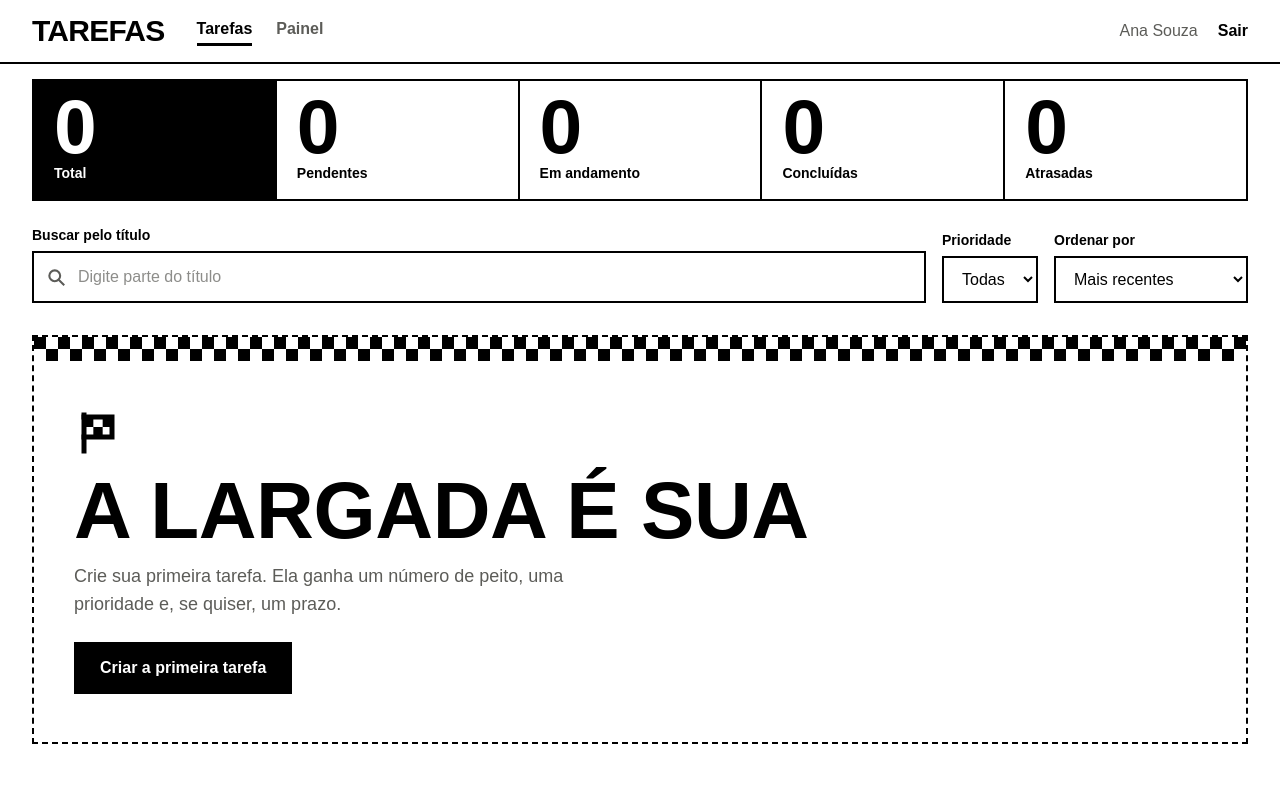
página de tarefas › sem nenhuma tarefa, convida a criar a primeira e envia o formulário
(page scrolled)
Click the button "Criar a primeira tarefa" at point(183, 668), box [74,642,292,694]
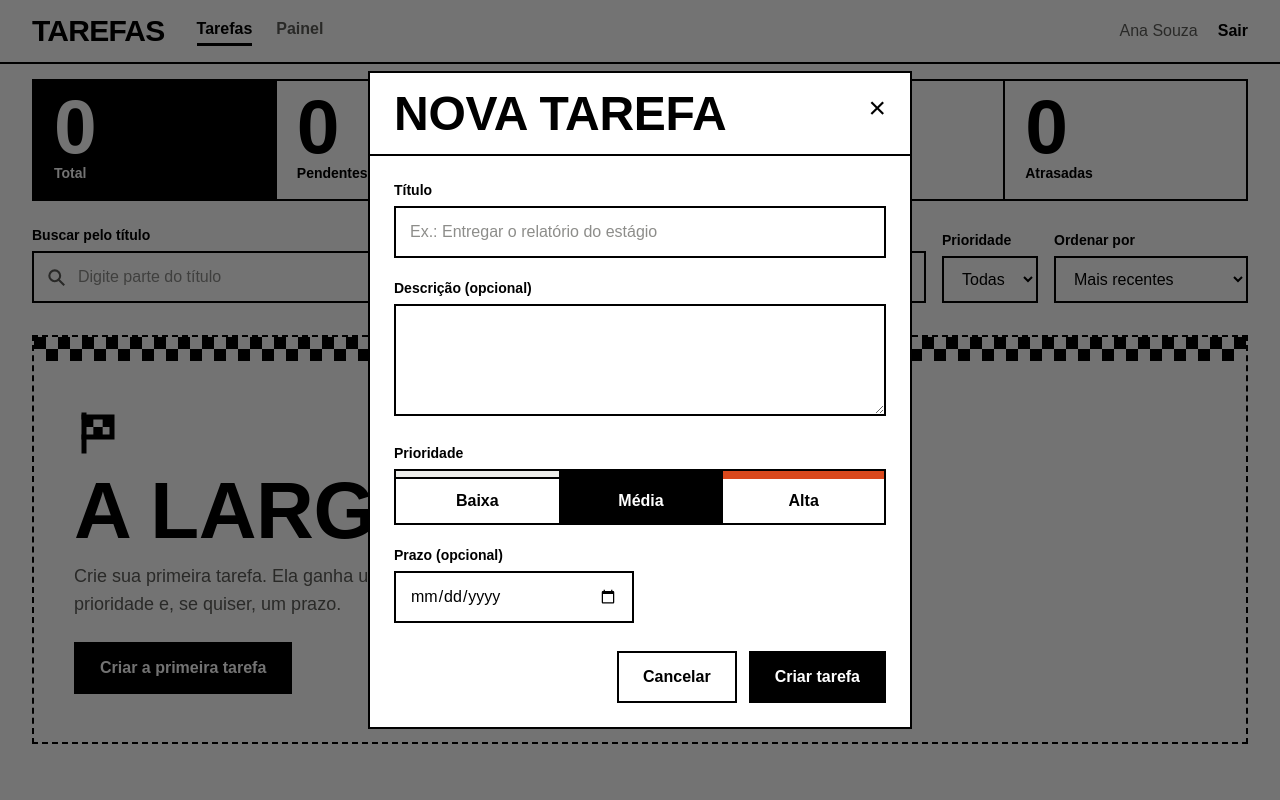
Type "  Estudar Spring Security " into the field labelled "Título" at point(640, 232), box [394,206,886,258]
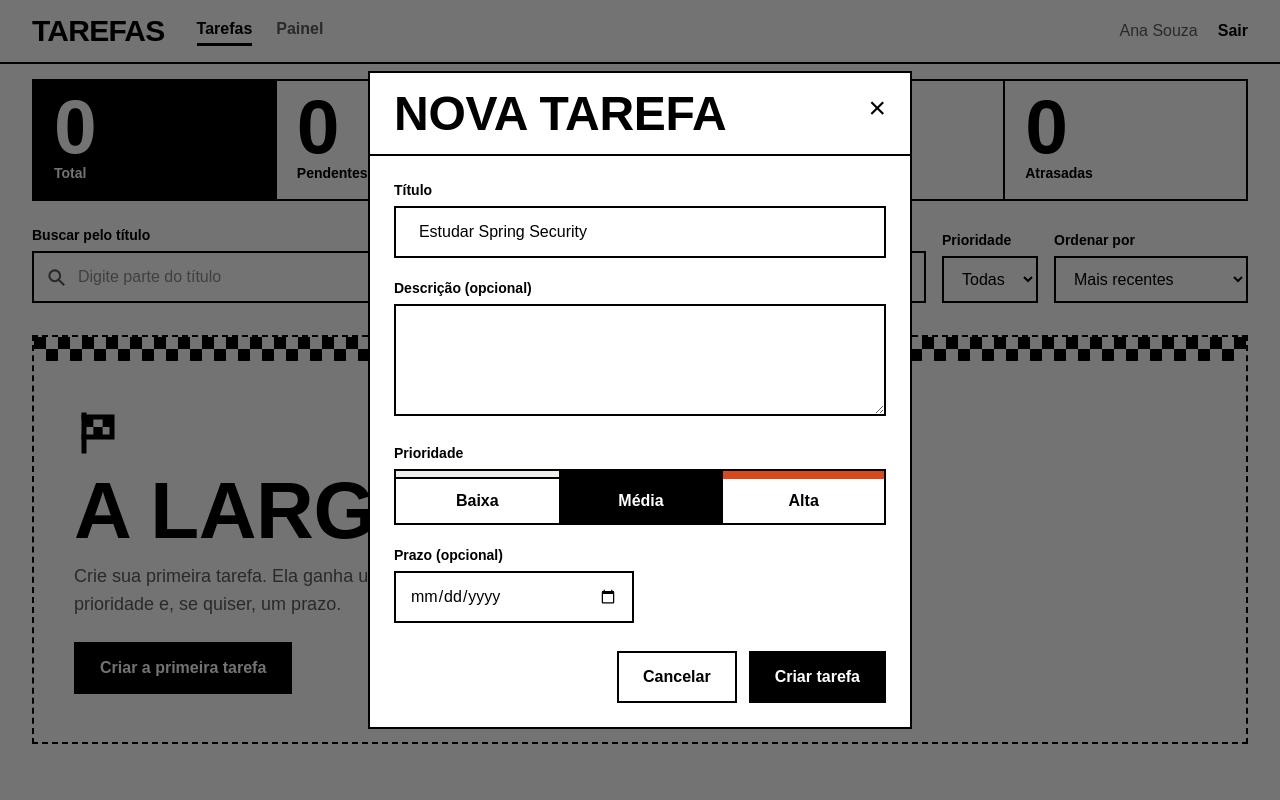
Click the radio button labelled "Alta" at point(803, 497), box [721,471,884,523]
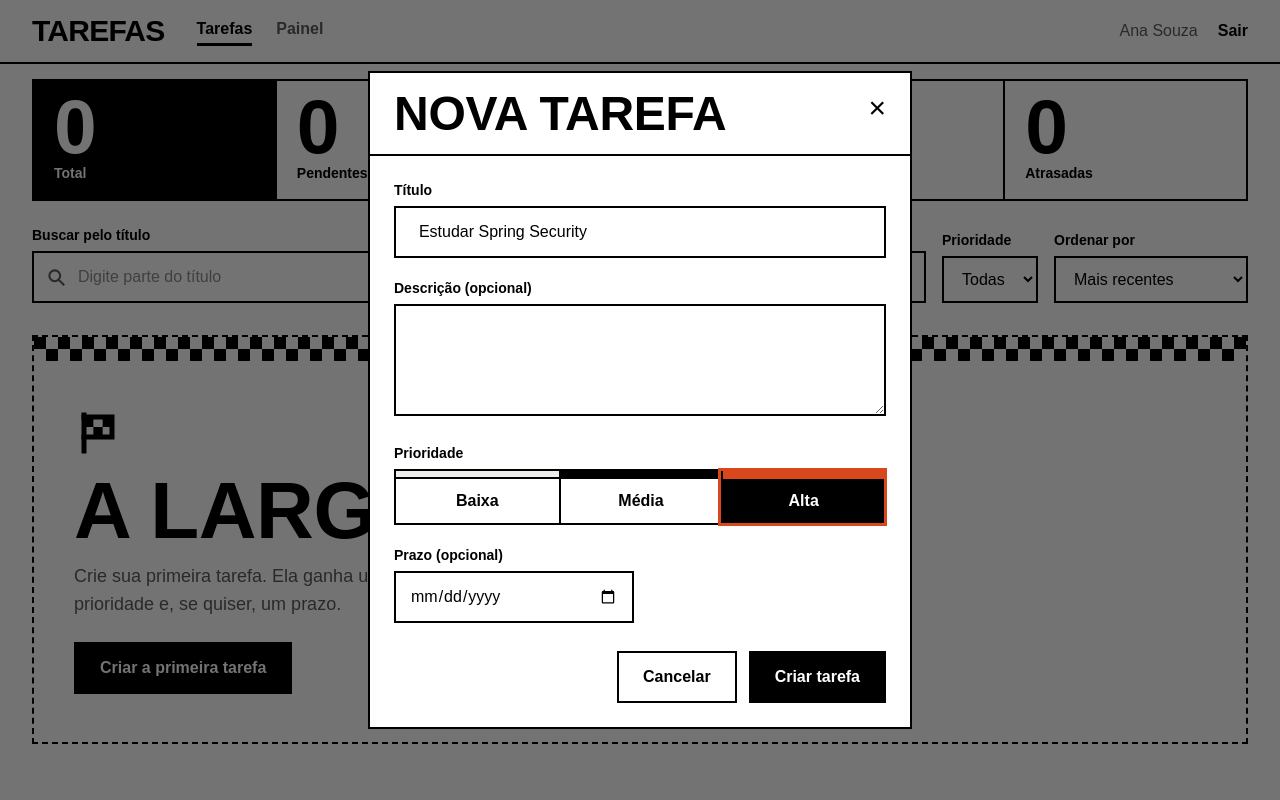
Type "2026-12-10" into the date field labelled "Prazo (opcional)" at point(514, 597), box [394,571,634,623]
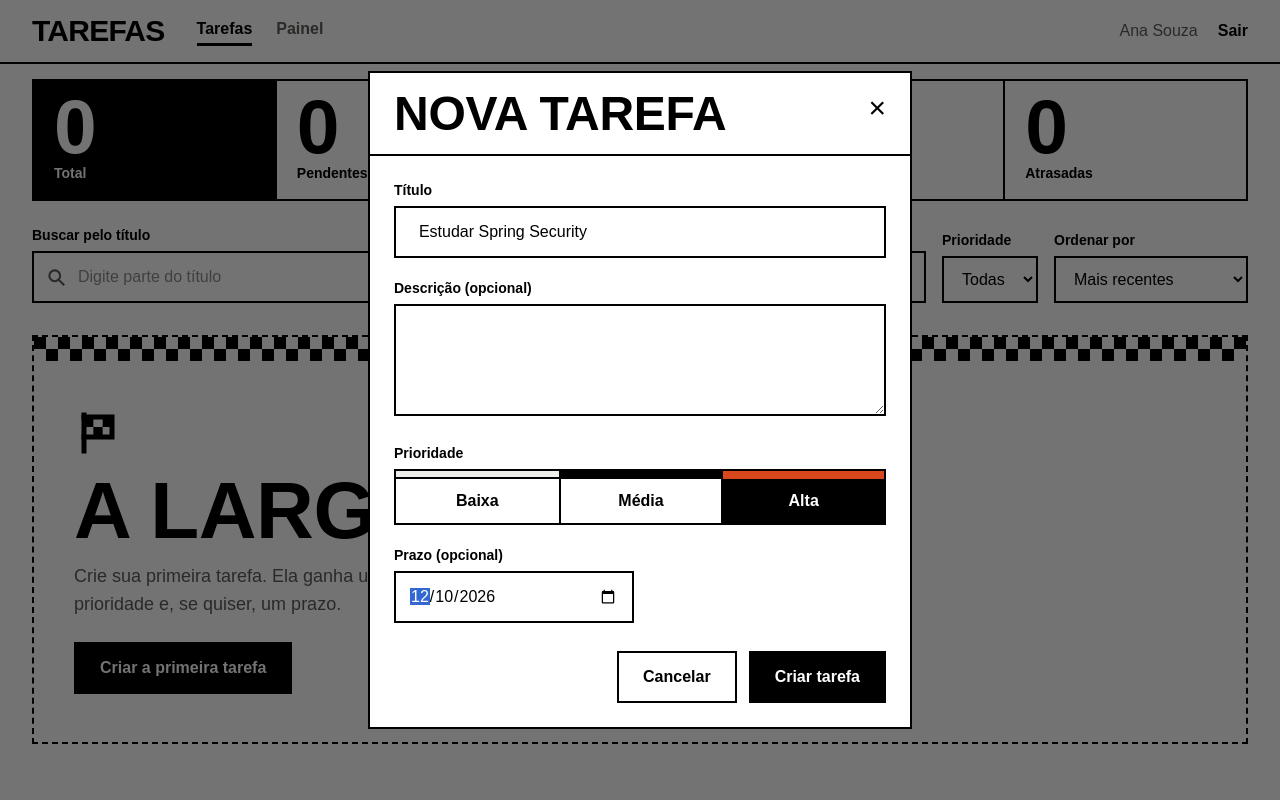
Click the button "Criar tarefa" at point(817, 677), box [749,651,886,703]
(page scrolled)
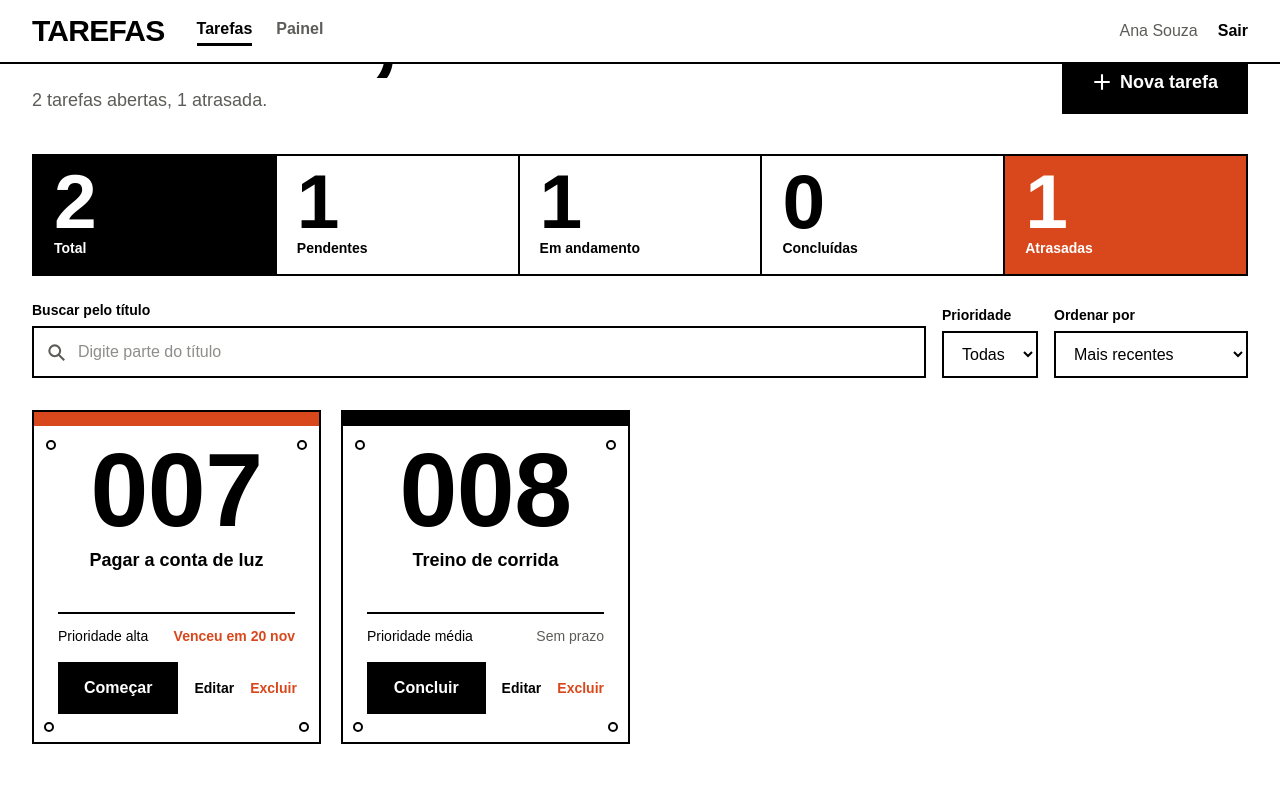
Expected: the dialog is gone
